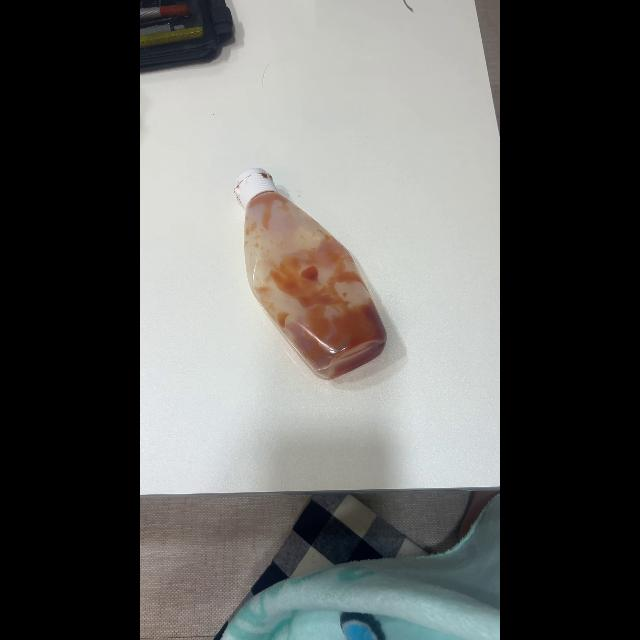dirty: (234, 175, 396, 378)
